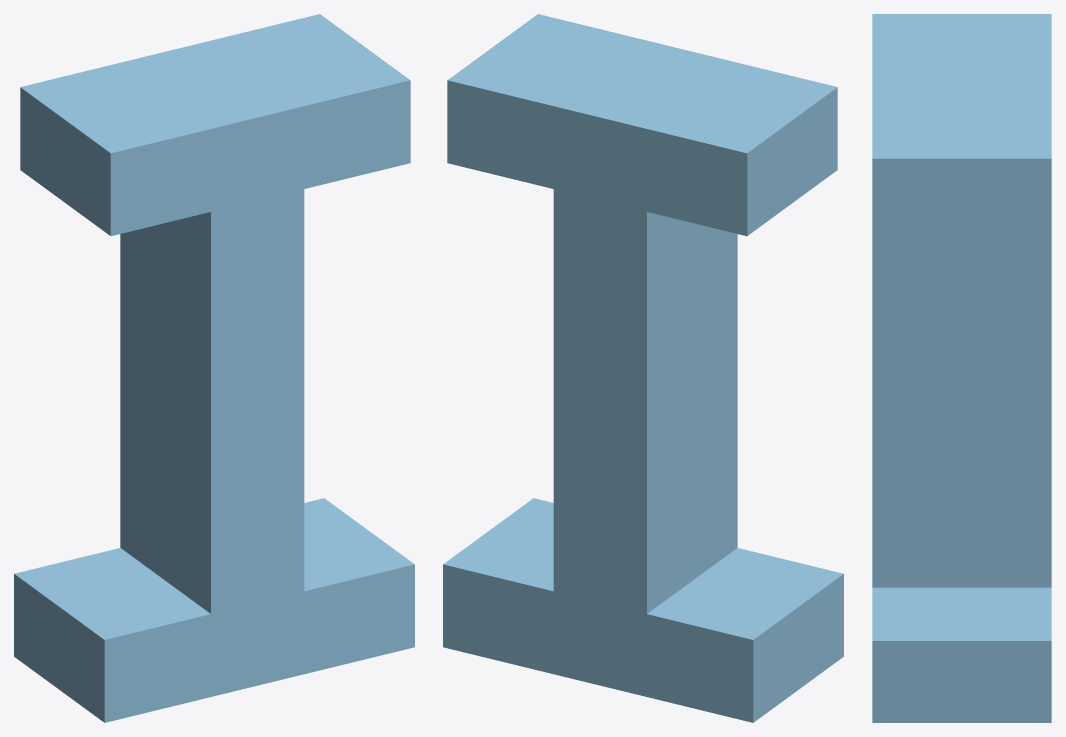
Rendered from smaller_i.obj.
3 renders of one model, left to right at view 1: azimuth 30°, elevation 25°; view 2: azimuth 150°, elevation 25°; view 3: azimuth 270°, elevation 25°, orthographic.
Visible parts, largest first — view 1: mesh9, mesh12, mesh7, mesh13, mesh0, mesh8, mesh3; view 2: mesh10, mesh12, mesh7, mesh13, mesh0, mesh8, mesh3; view 3: mesh4, mesh7, mesh6, mesh2, mesh3.
Boxes of the visible parts, bbox=[...] form: mesh9: bbox=[104, 80, 414, 722]; mesh12: bbox=[120, 212, 210, 613]; mesh7: bbox=[20, 14, 409, 153]; mesh13: bbox=[14, 548, 210, 639]; mesh0: bbox=[14, 574, 104, 722]; mesh8: bbox=[20, 87, 110, 235]; mesh3: bbox=[304, 498, 414, 591]; mesh10: bbox=[443, 80, 753, 722]; mesh12: bbox=[647, 212, 737, 613]; mesh7: bbox=[448, 14, 837, 153]; mesh13: bbox=[647, 548, 843, 639]; mesh0: bbox=[753, 574, 843, 722]; mesh8: bbox=[747, 87, 837, 235]; mesh3: bbox=[443, 498, 553, 591]; mesh4: bbox=[872, 240, 1051, 587]; mesh7: bbox=[872, 14, 1051, 158]; mesh6: bbox=[872, 158, 1051, 240]; mesh2: bbox=[872, 641, 1051, 722]; mesh3: bbox=[872, 587, 1051, 640].
Bounding box in the file's own units: 0.0791 × 0.1384 × 0.04.
